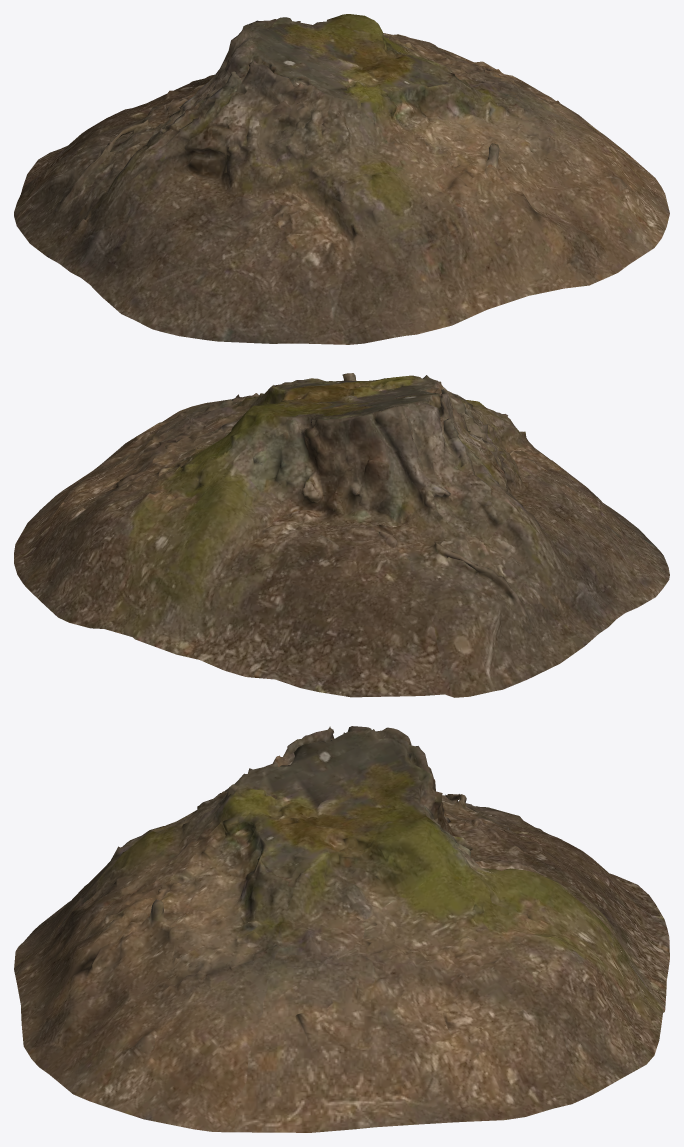
Rendered from tree_stump_02.glb.
3 views of the same model, one above another, from view 1: azimuth 30°, elevation 25°; view 2: azimuth 150°, elevation 25°; view 3: azimuth 270°, elevation 25° (orthographic). The views are drawn at different scales.
Parts seen in each view (by area): view 1: tree_stump_02; view 2: tree_stump_02; view 3: tree_stump_02.
Part boxes in pixels (left/top/right/bottom): tree_stump_02: left=14, top=14, right=669, bottom=344; tree_stump_02: left=14, top=373, right=669, bottom=697; tree_stump_02: left=14, top=726, right=669, bottom=1132.
Size of the model in its own units: 1.52 by 0.5214 by 1.39.
Materials: 1 (1 with a texture image).
